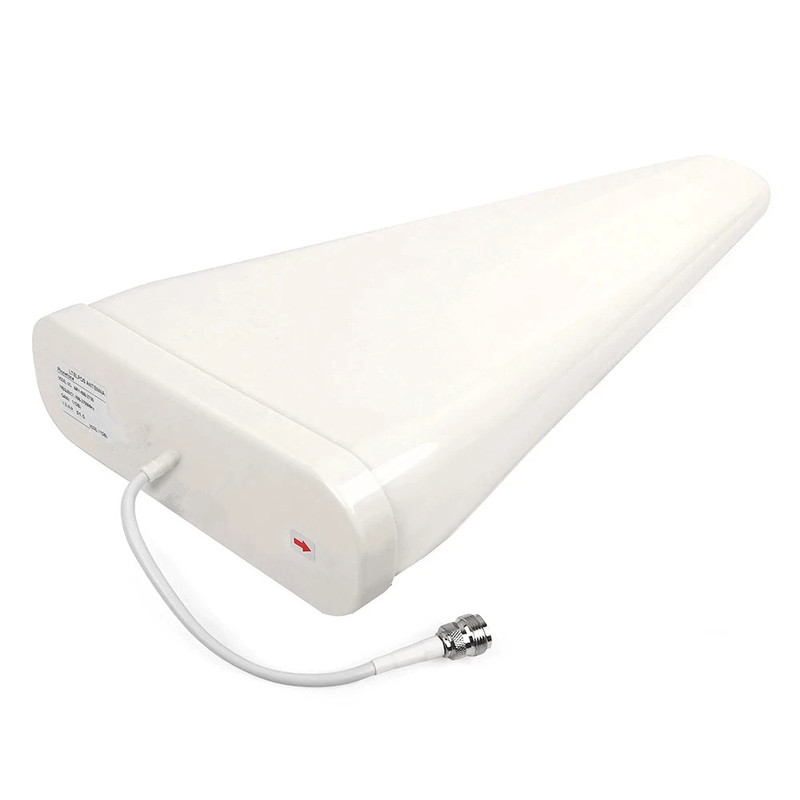sa: (76, 141, 757, 636)
